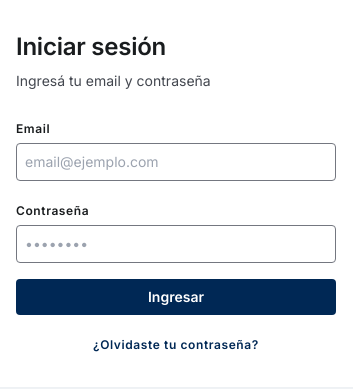
LoginPage › shows validation errors for empty fields
Click the button "Ingresar" at coordinates (176, 297), box [16,279,336,315]
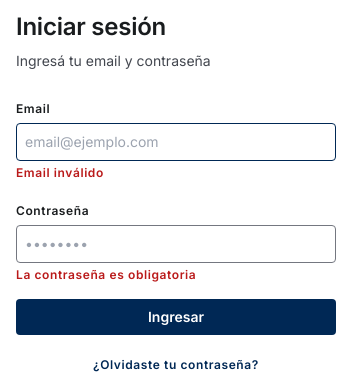
Check: the text "Email inválido" is shown, box [16,165,104,180]
Check: the text "La contraseña es obligatoria" is shown, box [16,267,196,282]
